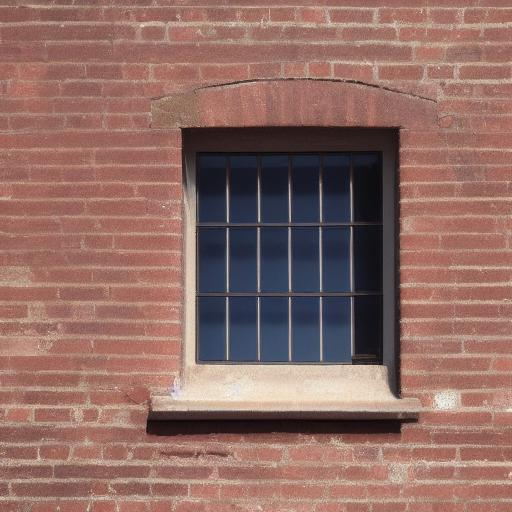Window: (146, 81, 439, 430)
